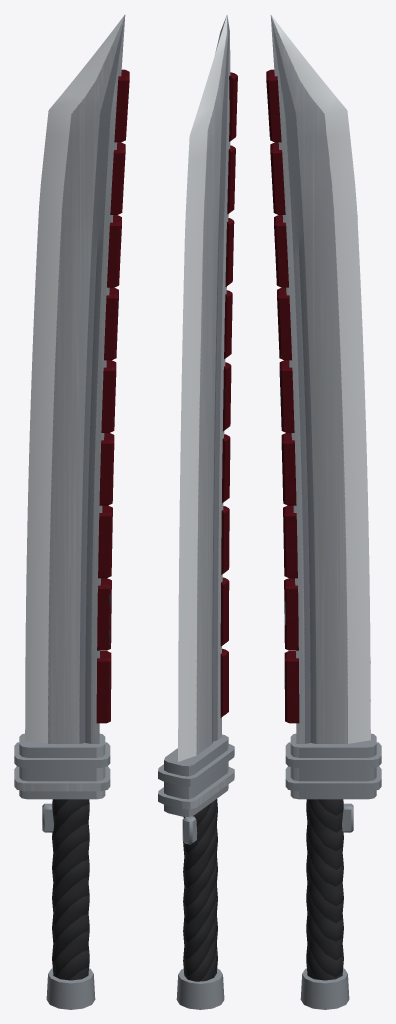
The model's file is quinque_blade.obj.
The picture shows the model from 3 angles, left to right: view 1: azimuth 90°, elevation 25°; view 2: azimuth 150°, elevation 25°; view 3: azimuth 270°, elevation 25°; orthographic projection.
Parts seen in each view (by area): view 1: QuinqueBlade, QuinqueHilt; view 2: QuinqueBlade, QuinqueHilt; view 3: QuinqueBlade, QuinqueHilt.
Part boxes in pixels (<box>): QuinqueBlade: <box>25,14,129,743</box>; QuinqueHilt: <box>14,733,110,1009</box>; QuinqueBlade: <box>178,14,237,761</box>; QuinqueHilt: <box>158,734,234,1009</box>; QuinqueBlade: <box>266,14,370,743</box>; QuinqueHilt: <box>285,733,381,1009</box>.
Bounding box in the file's own units: 0.17 × 3.8 × 0.4033.
